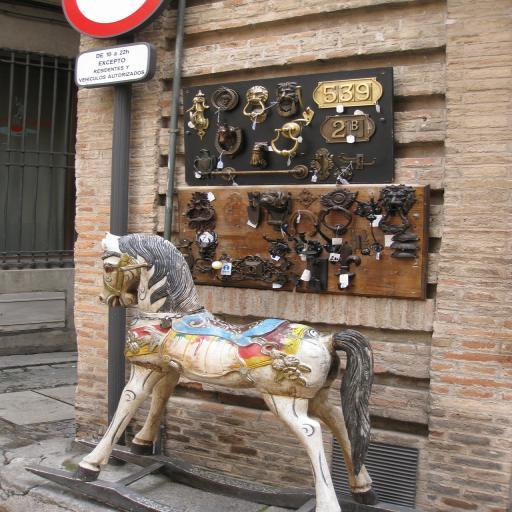horse: (74, 230, 380, 512)
